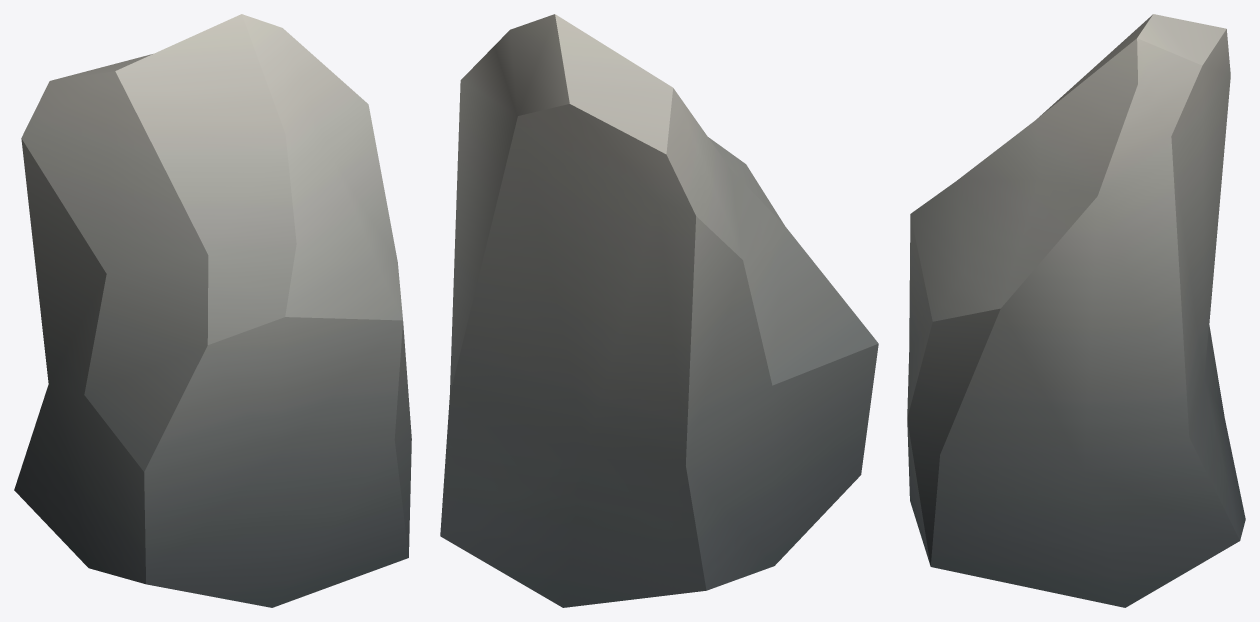
File: Rock_Small_B.fbx
3 renders of one model, left to right at view 1: azimuth 30°, elevation 25°; view 2: azimuth 150°, elevation 25°; view 3: azimuth 270°, elevation 25°, orthographic. The views are drawn at different scales.
Visible parts, largest first — view 1: Rock_Small_B; view 2: Rock_Small_B; view 3: Rock_Small_B.
Part boxes in pixels (x1,y1,x2,y2): Rock_Small_B: (14, 14, 411, 607); Rock_Small_B: (440, 14, 878, 607); Rock_Small_B: (907, 14, 1245, 607).
Size of the model in its own units: 64.04 by 59.82 by 103.
1 material, 1 textured.
